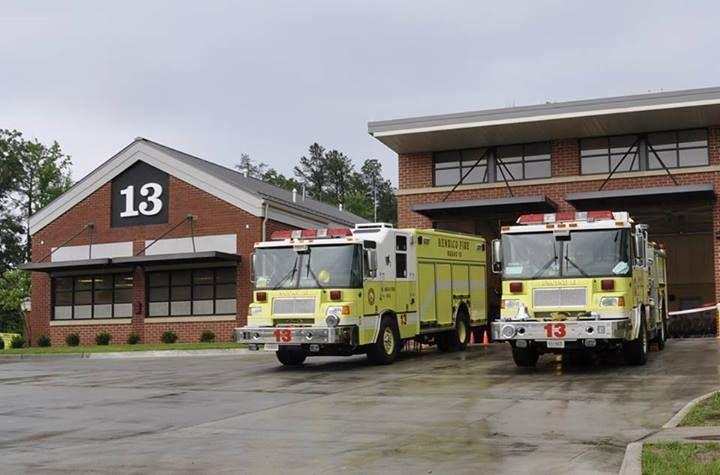firetruck_off: (232, 222, 488, 367), (491, 209, 668, 372)
